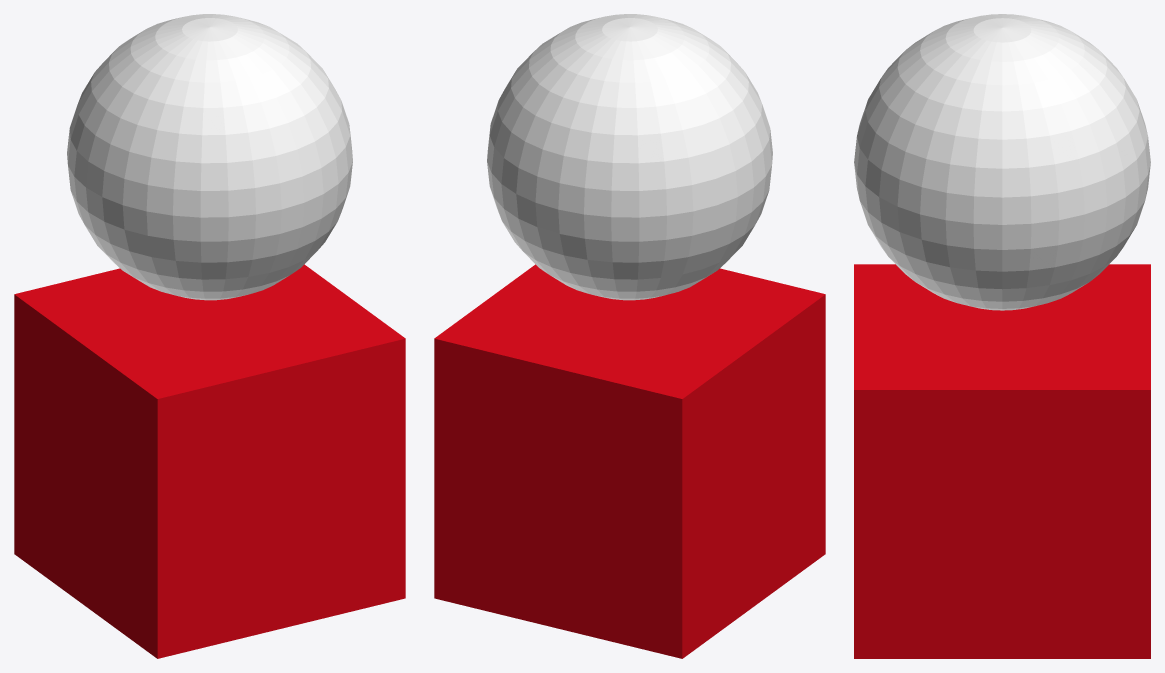
3 views of the same model, side by side, from view 1: azimuth 30°, elevation 25°; view 2: azimuth 150°, elevation 25°; view 3: azimuth 270°, elevation 25° (orthographic). The views are drawn at different scales.
Visible parts, largest first — view 1: Cube, Sphere; view 2: Cube, Sphere; view 3: Cube, Sphere.
Part boxes in pixels (<box>): Cube: <box>14,264,405,658</box>; Sphere: <box>67,14,352,300</box>; Cube: <box>434,264,825,658</box>; Sphere: <box>487,14,772,300</box>; Cube: <box>854,264,1150,658</box>; Sphere: <box>854,14,1150,310</box>.
Size of the model in its own units: 2 by 4.23 by 2.
